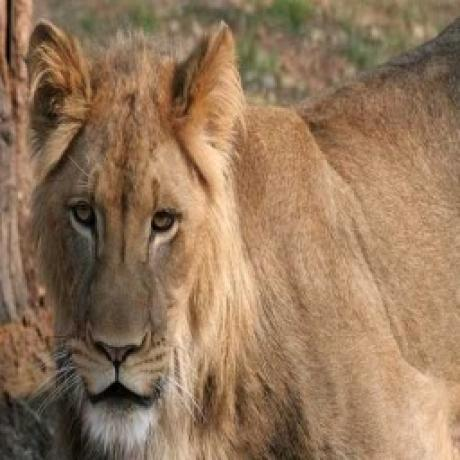Lion: (19, 11, 460, 460)
